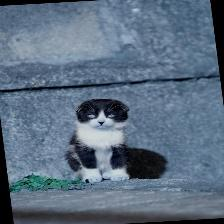kedo: (65, 99, 168, 183)
